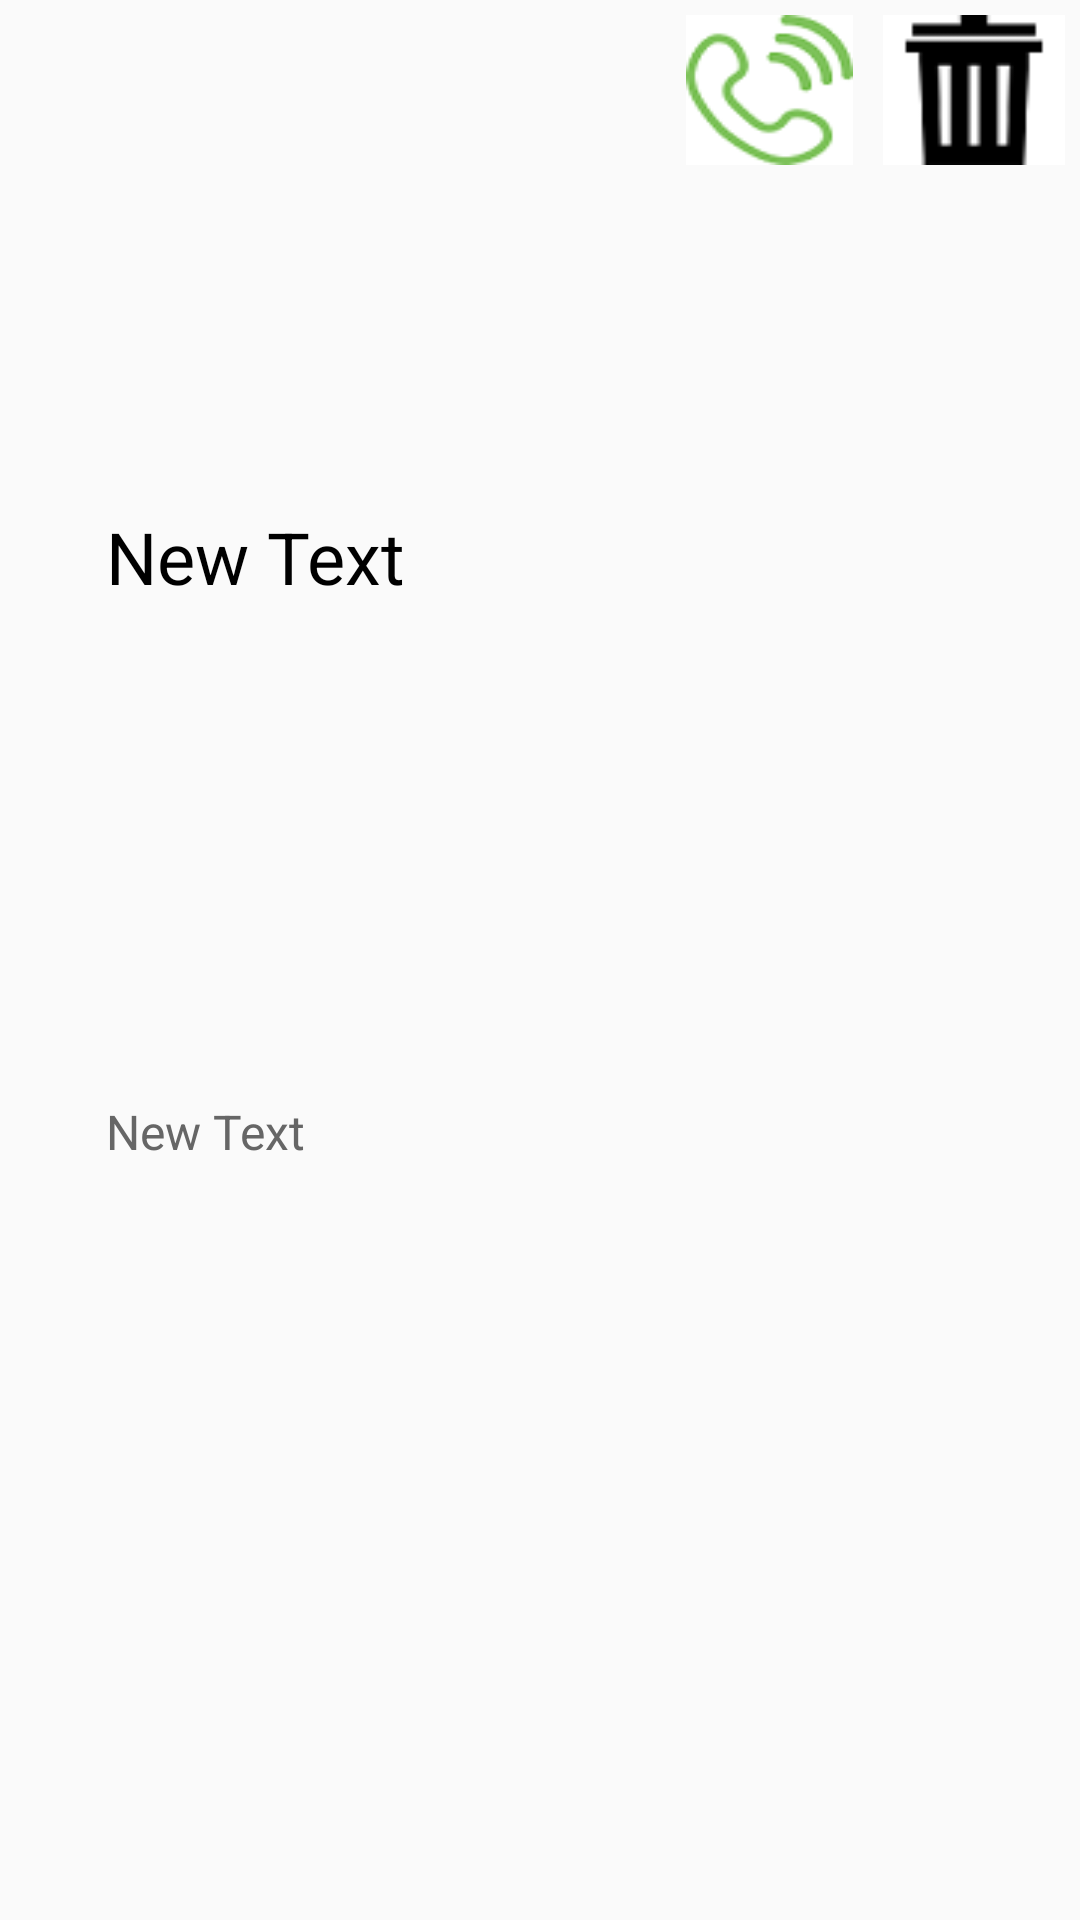

Screen size 1080 x 1920. Icon name, then its center in pixels as (x,y):
phone: (769,90)
trashcan: (974,90)
